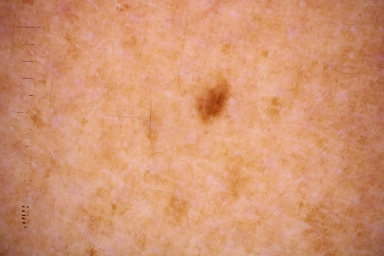nevus: (195, 80, 234, 125)
